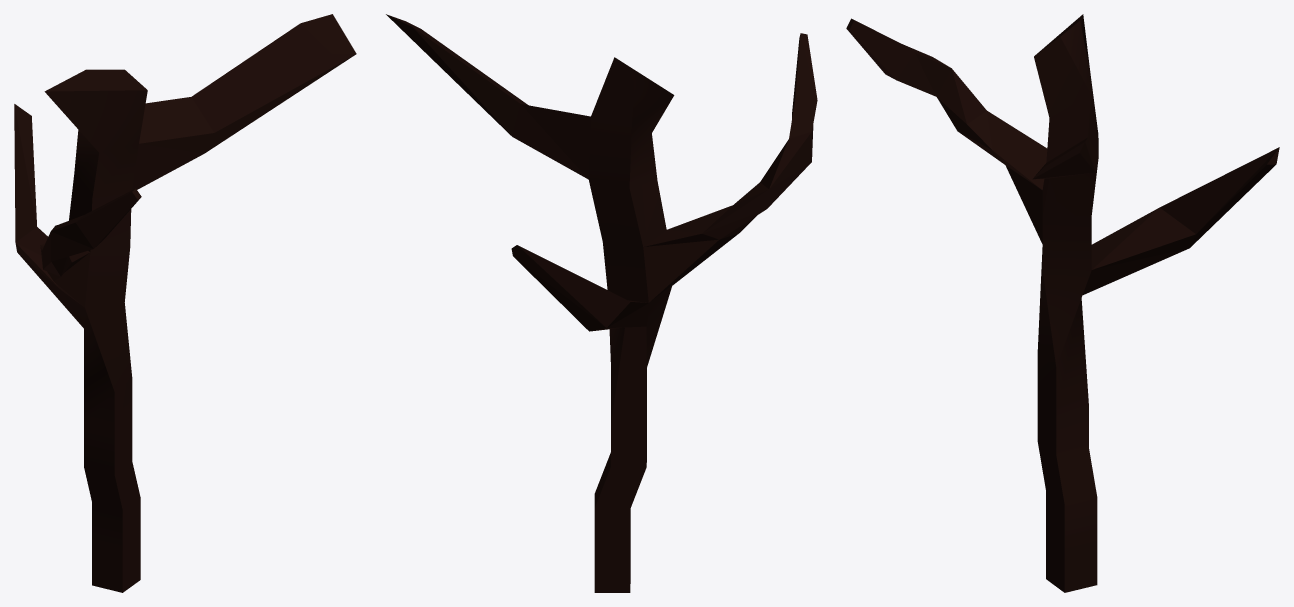
The model's file is dead_tree.obj.
The picture shows the model from 3 angles, left to right: view 1: azimuth 30°, elevation 25°; view 2: azimuth 150°, elevation 25°; view 3: azimuth 270°, elevation 25°; orthographic projection. The views are drawn at different scales.
Parts seen in each view (by area): view 1: Dead_Tree_Mesh.007; view 2: Dead_Tree_Mesh.007; view 3: Dead_Tree_Mesh.007.
Part boxes in pixels (left/top/right/bottom): Dead_Tree_Mesh.007: left=14, top=14, right=356, bottom=592; Dead_Tree_Mesh.007: left=386, top=14, right=817, bottom=592; Dead_Tree_Mesh.007: left=846, top=14, right=1279, bottom=592.
Bounding box in the file's own units: 17.59 × 24.6 × 17.64.
